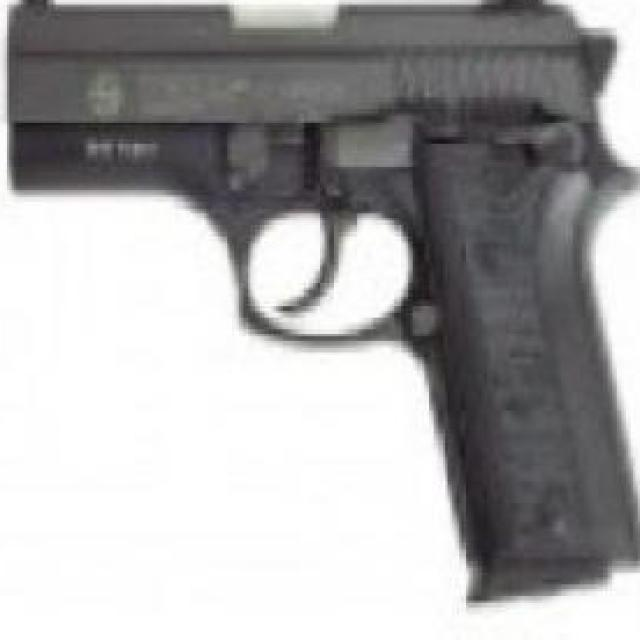pistol: (7, 0, 640, 594)
